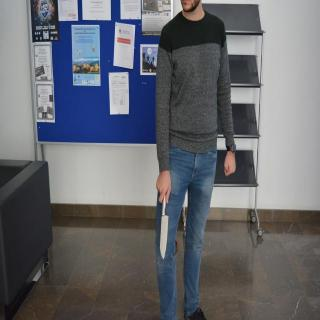knife: (158, 188, 170, 262)
